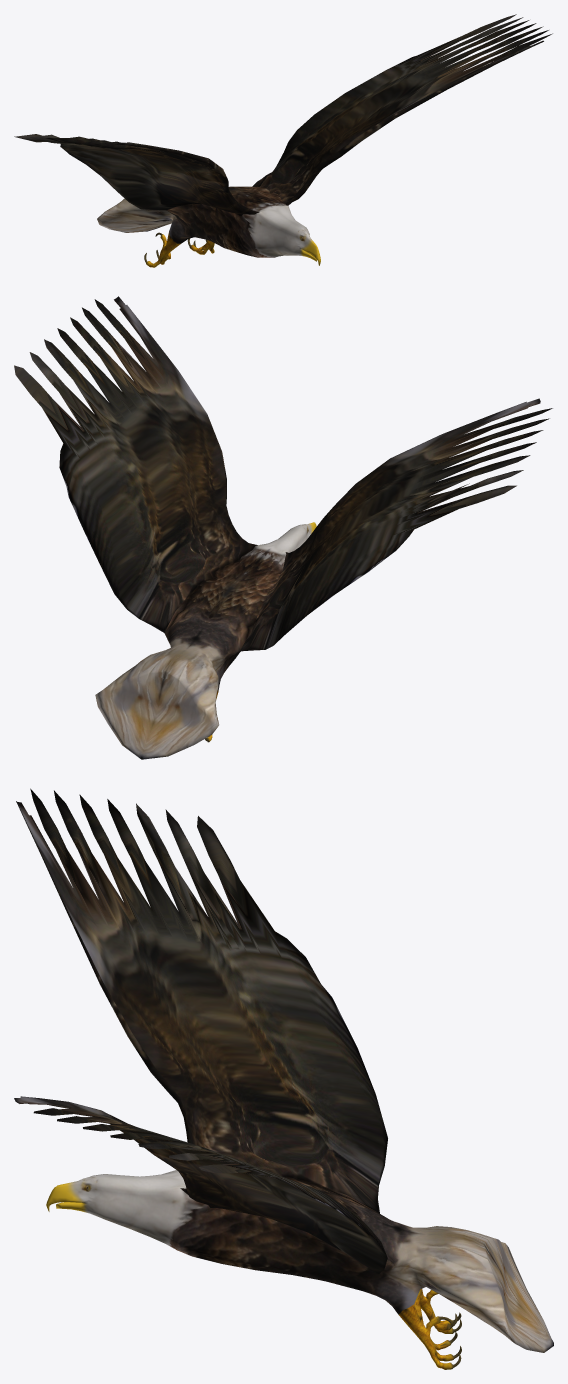
Rendered from Eagle-original_000002.obj.
The picture shows the model from 3 angles, top to bottom: view 1: azimuth 30°, elevation 25°; view 2: azimuth 150°, elevation 25°; view 3: azimuth 270°, elevation 25°; orthographic projection. The views are drawn at different scales.
Parts seen in each view (by area): view 1: Flugel_Plane.003; view 2: Flugel_Plane.003; view 3: Flugel_Plane.003.
Boxes of the visible parts, bbox=[...] form: Flugel_Plane.003: bbox=[14, 14, 552, 267]; Flugel_Plane.003: bbox=[14, 296, 552, 759]; Flugel_Plane.003: bbox=[14, 788, 553, 1369].
Size of the model in its own units: 9.54 by 5.03 by 6.17.
Materials: 1 (1 with a texture image).
